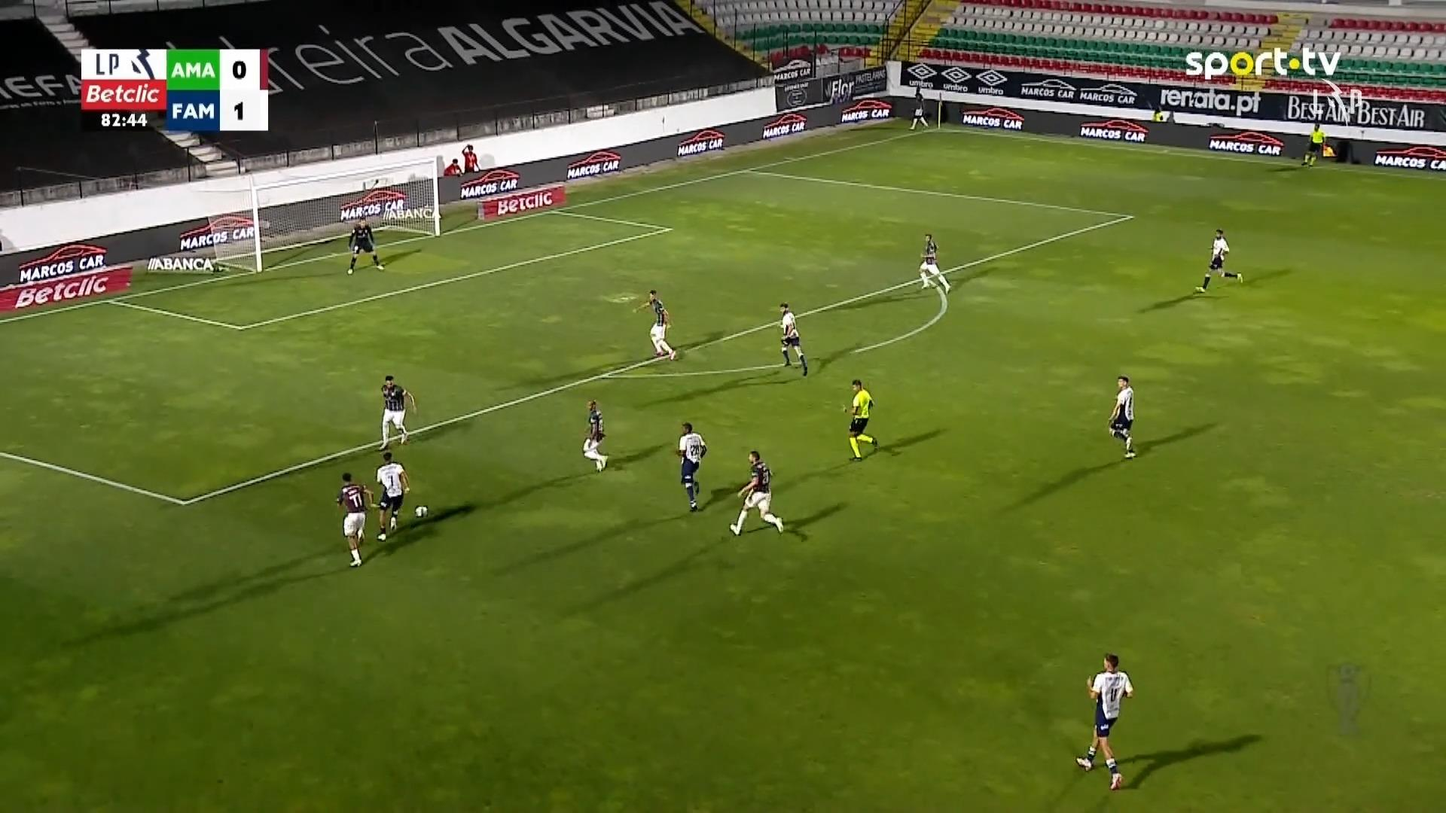ball: (414, 505, 427, 517)
goalkeeper: (346, 215, 385, 274)
player: (1074, 652, 1133, 790), (728, 449, 784, 536), (334, 471, 374, 567), (1193, 227, 1243, 292), (374, 450, 410, 540), (633, 289, 676, 361), (378, 374, 416, 451), (676, 421, 706, 512), (1107, 374, 1136, 458), (778, 301, 807, 376), (581, 398, 609, 472), (917, 233, 950, 293)
referee: (842, 378, 877, 461), (1302, 122, 1326, 167)
